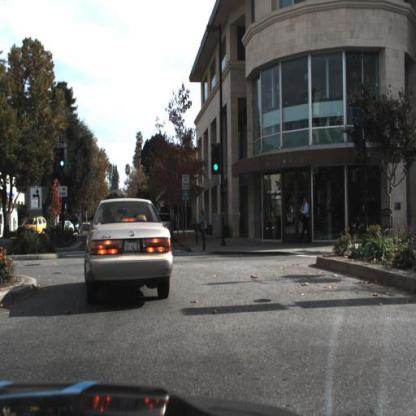car: (84, 196, 174, 301), (17, 214, 50, 240)
pedestrian: (300, 196, 311, 246), (200, 208, 207, 250)
trafficLight: (210, 145, 222, 172), (59, 146, 67, 168)
trafficLight-Green: (213, 148, 221, 173)
